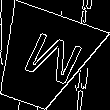M_S: (7, 27, 78, 91)
